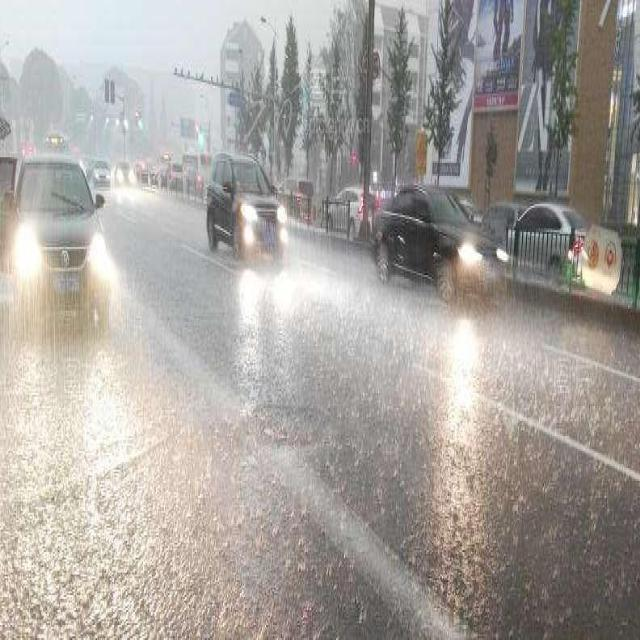car: (0, 154, 104, 318), (370, 182, 500, 298), (204, 147, 286, 260), (113, 161, 135, 187), (91, 159, 111, 185)
